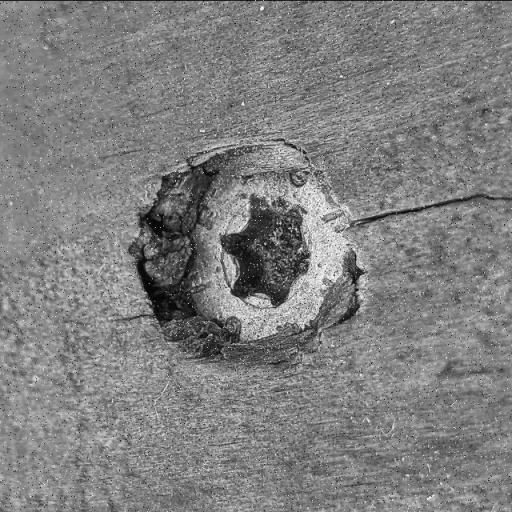Torx: (142, 143, 362, 362)
